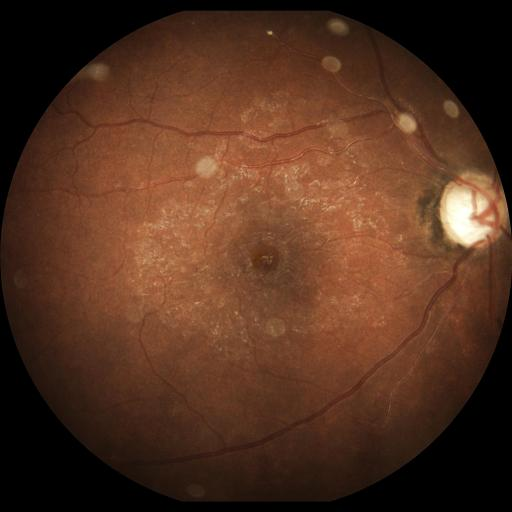Optic Cup: (445, 187, 499, 244)
Optic Disc: (437, 170, 508, 249)
